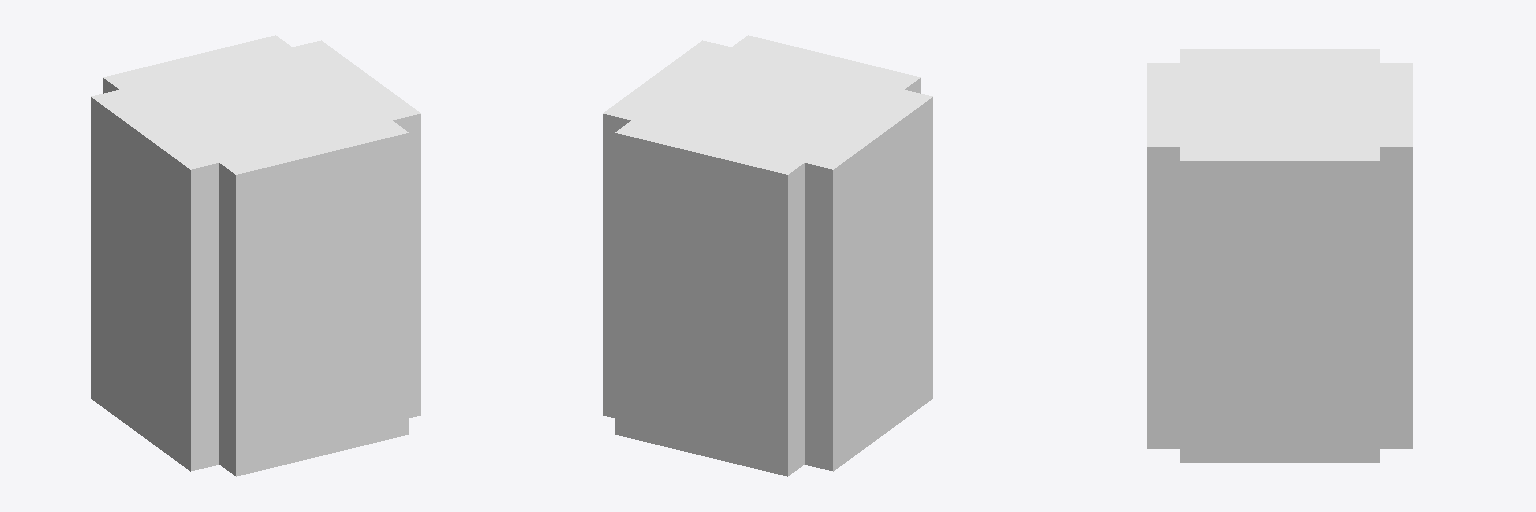
Rendered from wall_pillar_mid.obj.
3 renders of one model, left to right at view 1: azimuth 30°, elevation 25°; view 2: azimuth 150°, elevation 25°; view 3: azimuth 270°, elevation 25°, orthographic.
Parts seen in each view (by area): view 1: object 1; view 2: object 1; view 3: object 1.
Boxes of the visible parts, x1,y1,x2,y2 form: object 1: [91, 35, 420, 476]; object 1: [603, 35, 932, 476]; object 1: [1147, 49, 1412, 462].
Bounding box in the file's own units: 0.8 × 1 × 0.8.